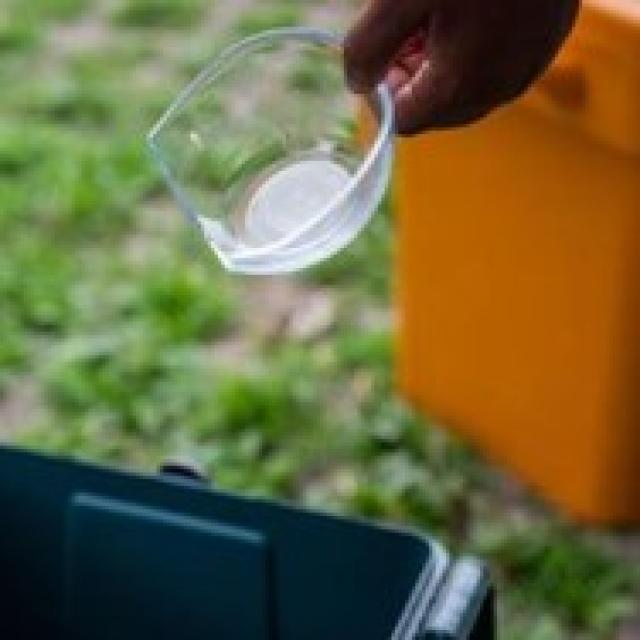electronic: (147, 24, 400, 282)
